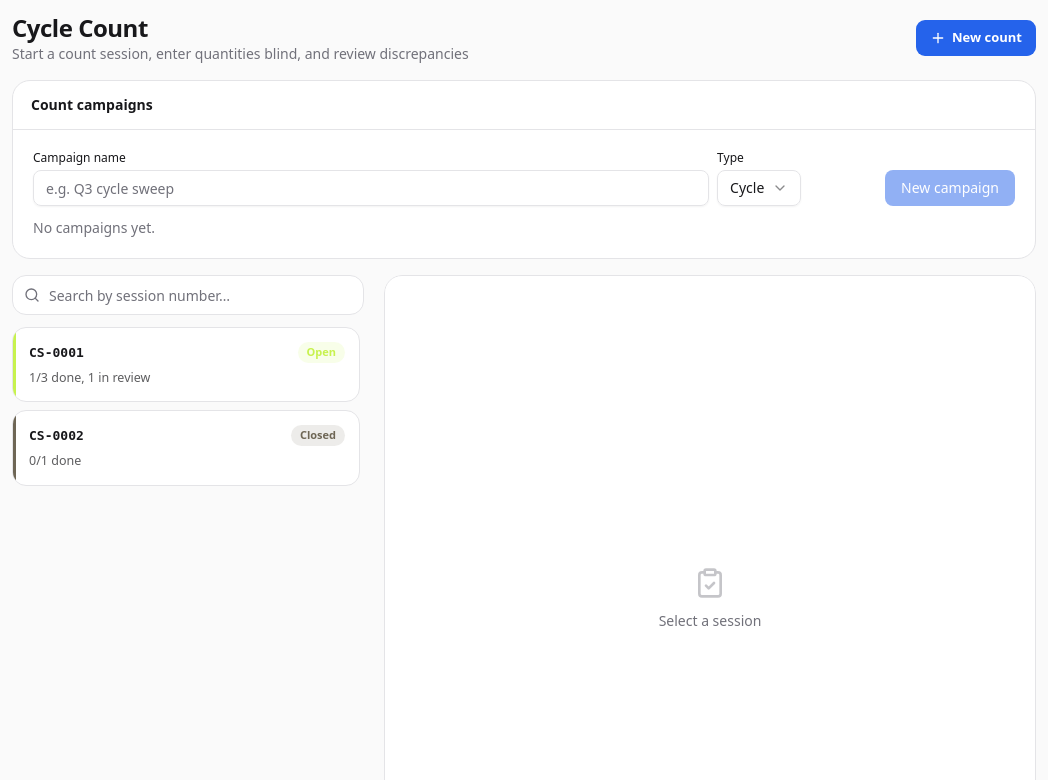
Test: CycleCountPage › lists sessions with state/progress and selects into the session workspace
Expected: the text "CS-0001" is shown, [29,342,84,362]
Expected: the text "Open" is shown, [298,342,345,362]
Click the button with test id "session-row-1". click: (56, 352)
box: [12,327,360,402]
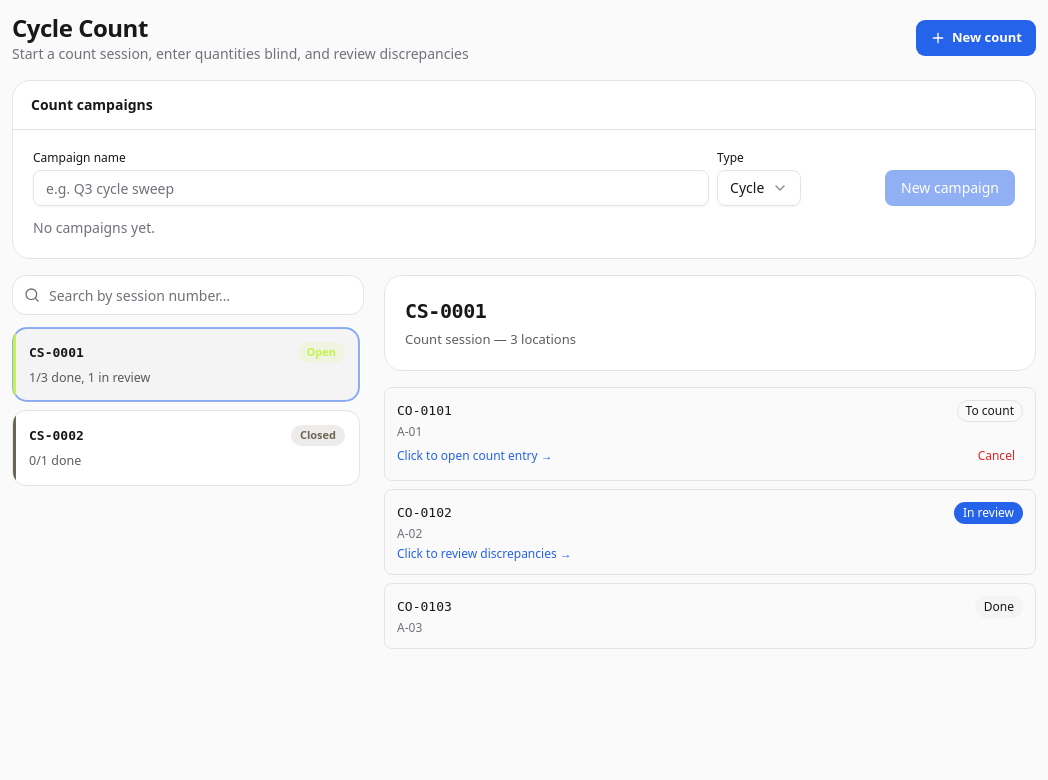
Now the element with test id "order-row-101" is shown, box [384,386,1036,480]
Now the element with test id "order-row-102" is shown, box [384,488,1036,574]
Now the element with test id "order-row-103" is shown, box [384,582,1036,648]
